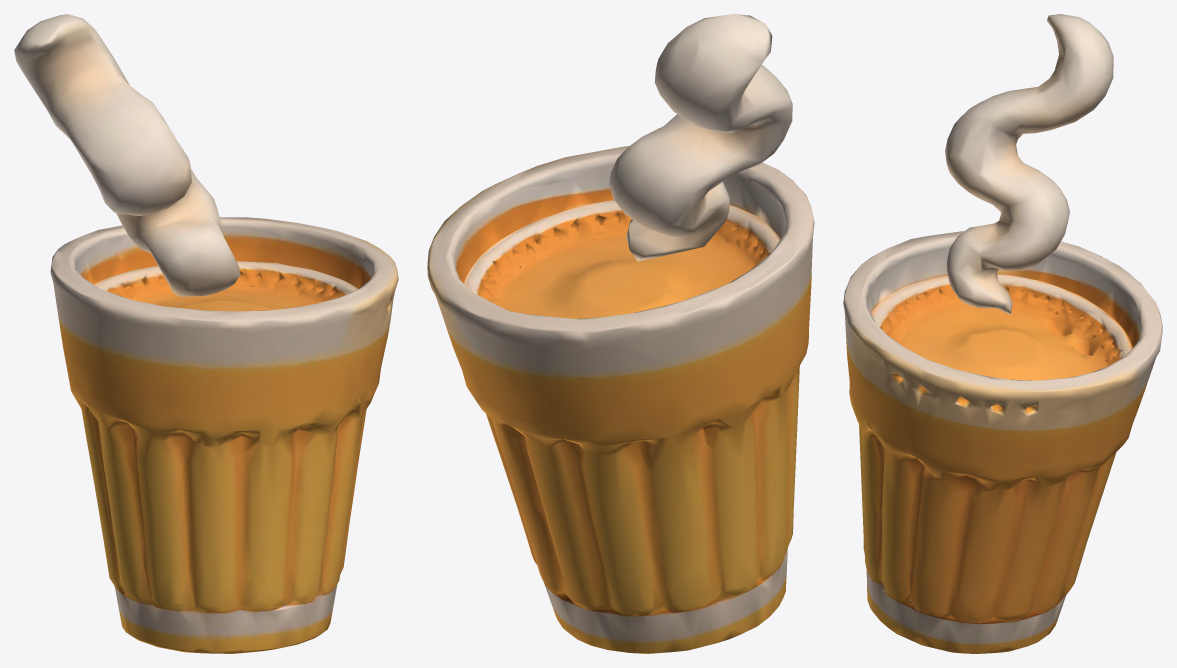
The model's file is powerup-cutting-chai.glb.
The picture shows the model from 3 angles, left to right: view 1: azimuth 30°, elevation 25°; view 2: azimuth 150°, elevation 25°; view 3: azimuth 270°, elevation 25°; orthographic projection. The views are drawn at different scales.
Parts seen in each view (by area): view 1: tripo_node_30202c59-df95-4ea3-bb2b-b48c3927eb63; view 2: tripo_node_30202c59-df95-4ea3-bb2b-b48c3927eb63; view 3: tripo_node_30202c59-df95-4ea3-bb2b-b48c3927eb63.
Boxes of the visible parts, x1,y1,x2,y2 form: tripo_node_30202c59-df95-4ea3-bb2b-b48c3927eb63: [14, 14, 398, 653]; tripo_node_30202c59-df95-4ea3-bb2b-b48c3927eb63: [427, 14, 814, 653]; tripo_node_30202c59-df95-4ea3-bb2b-b48c3927eb63: [843, 14, 1162, 653].
Size of the model in its own units: 0.554 by 1 by 0.5238.
Materials: 1 (1 with a texture image).
